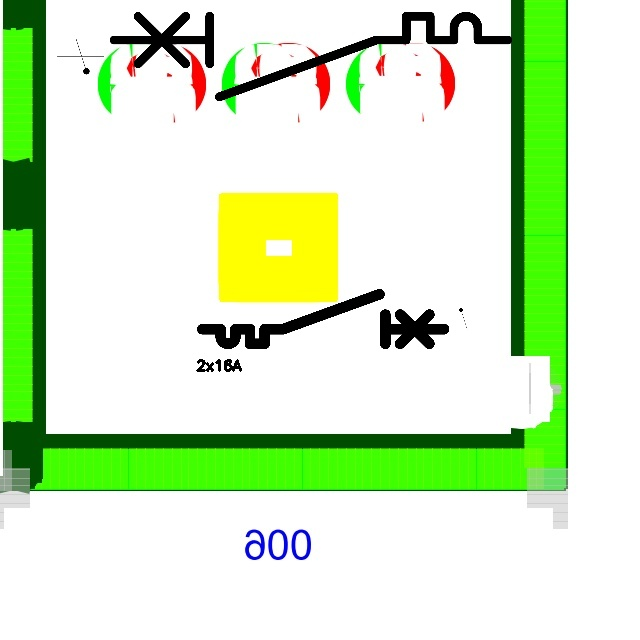interruptor_termomagnetico: (103, 6, 518, 107), (196, 288, 450, 350)
